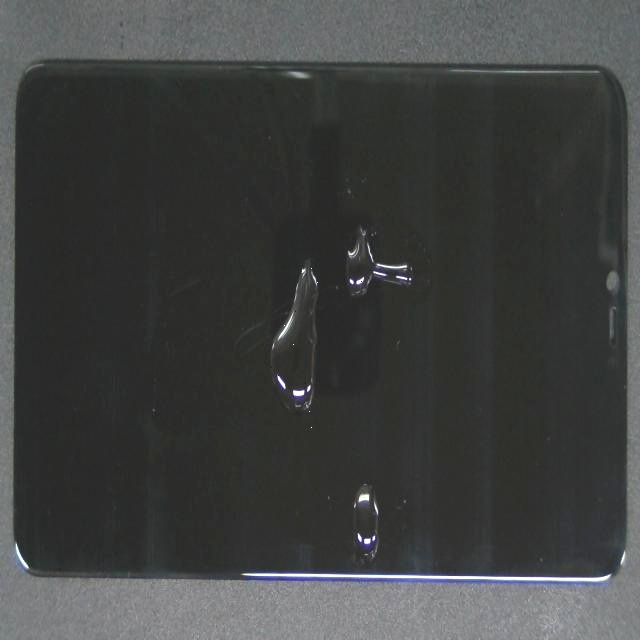oil: (194, 276, 579, 640), (219, 132, 617, 383), (172, 78, 435, 439)
